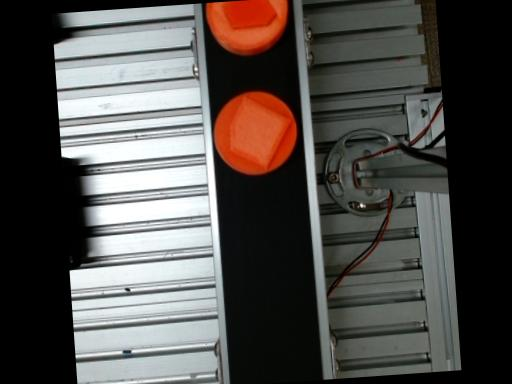Not_Square: (229, 94, 292, 170), (222, 0, 278, 29)
Orange_Waper: (214, 91, 295, 174), (206, 0, 288, 55)
